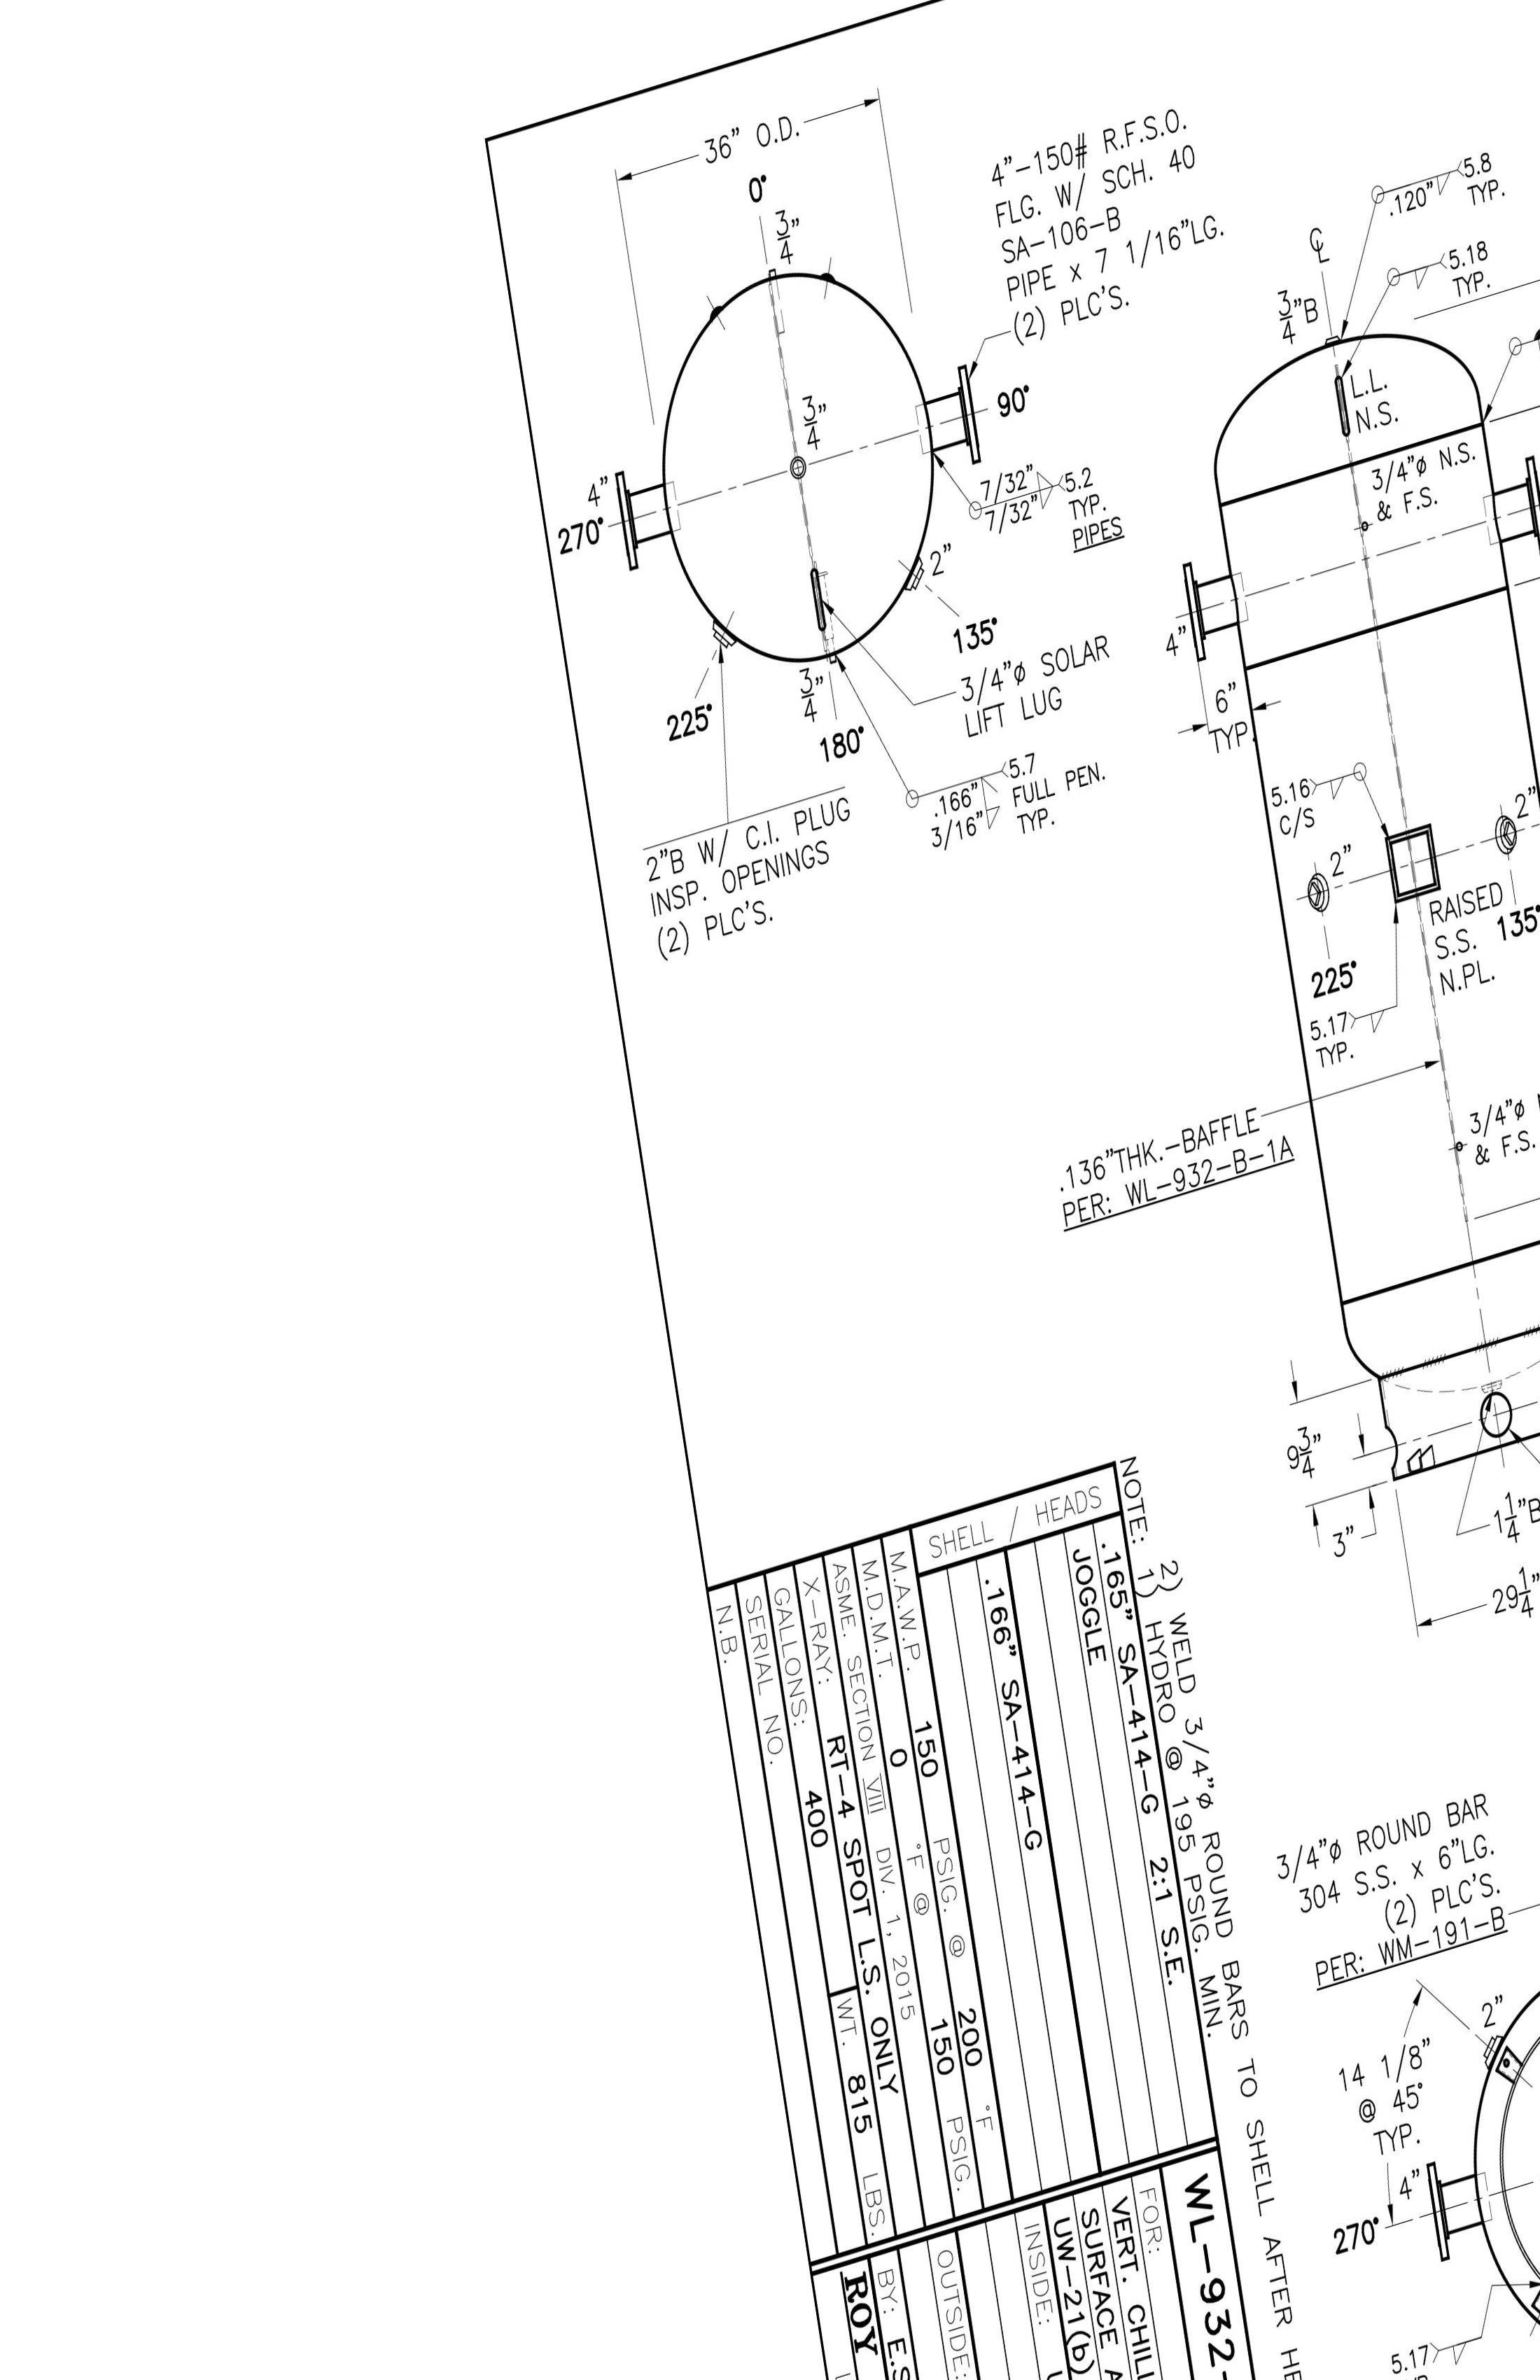Nozzle: (553, 432, 694, 588), (1162, 533, 1295, 685), (1400, 2144, 1511, 2292), (886, 364, 1027, 481), (1452, 444, 1540, 566)
